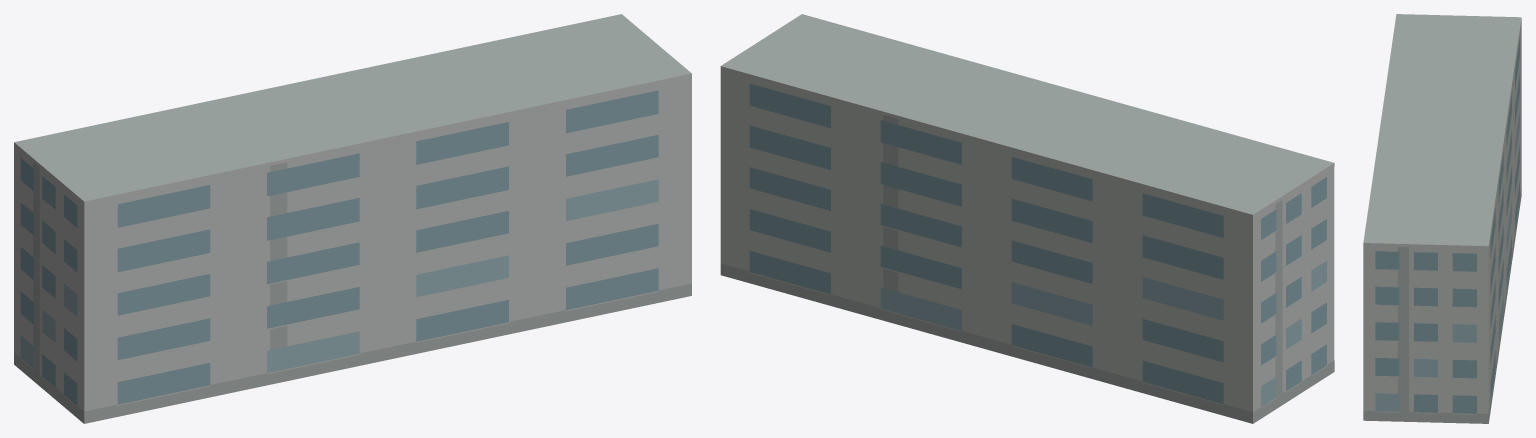
File: survey-upis-32800634.glb
3 renders of one model, left to right at view 1: azimuth 30°, elevation 25°; view 2: azimuth 150°, elevation 25°; view 3: azimuth 270°, elevation 25°, orthographic. The views are drawn at different scales.
Visible parts, largest first — view 1: survey-upis-32800634.tmp; view 2: survey-upis-32800634.tmp; view 3: survey-upis-32800634.tmp.
Boxes of the visible parts, x1,y1,x2,y2 form: survey-upis-32800634.tmp: (14, 14, 691, 423); survey-upis-32800634.tmp: (720, 14, 1334, 423); survey-upis-32800634.tmp: (1363, 14, 1521, 423).
Size of the model in its own units: 42.73 by 15.25 by 12.32.
